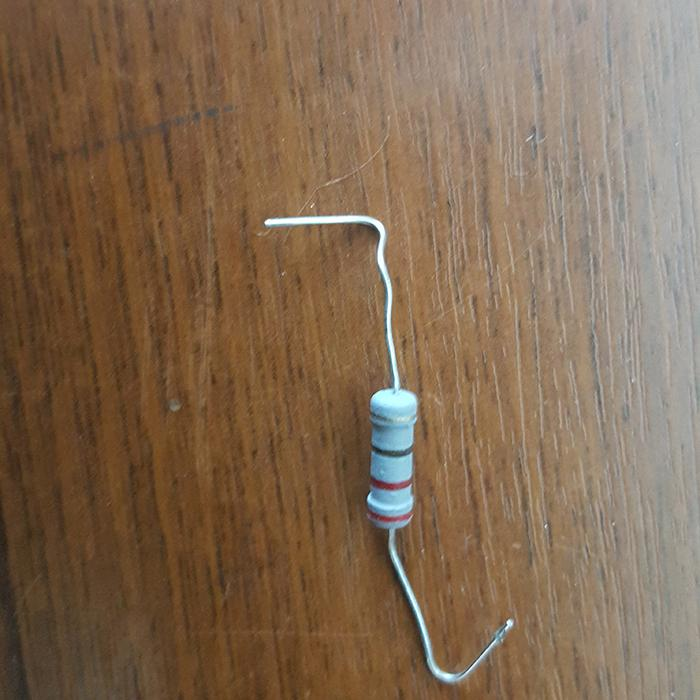resistor: (365, 386, 418, 530)
